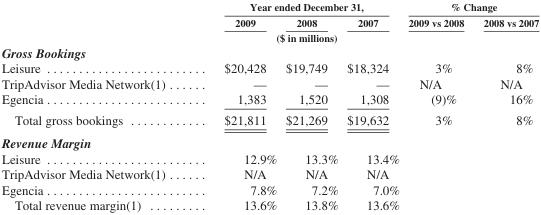table: (0, 0, 538, 212)
table column: (0, 0, 194, 212), (194, 0, 280, 212), (403, 0, 473, 212), (473, 0, 538, 212), (280, 0, 342, 212), (342, 0, 403, 212)
table column header: (0, 0, 538, 44)
table projected row header: (0, 131, 538, 150), (0, 44, 538, 60)
table row: (0, 109, 538, 131), (0, 131, 538, 150), (0, 91, 538, 109), (0, 44, 538, 60), (0, 75, 538, 91), (0, 150, 538, 166), (0, 181, 538, 197), (0, 14, 538, 29), (0, 29, 538, 44), (0, 60, 538, 75), (0, 166, 538, 181), (0, 197, 538, 212), (0, 0, 538, 14)
table spanning cell: (194, 29, 403, 44), (194, 0, 403, 14), (403, 14, 473, 44), (473, 14, 538, 44), (403, 0, 538, 14)
